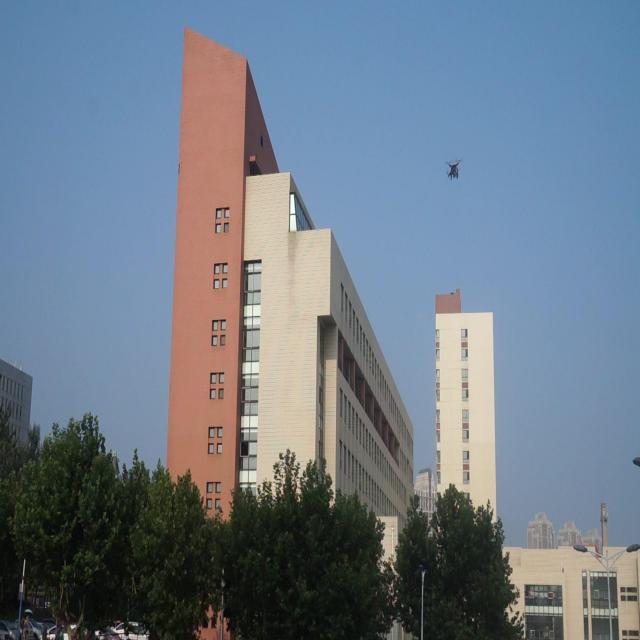UAV: (444, 160, 462, 182)
